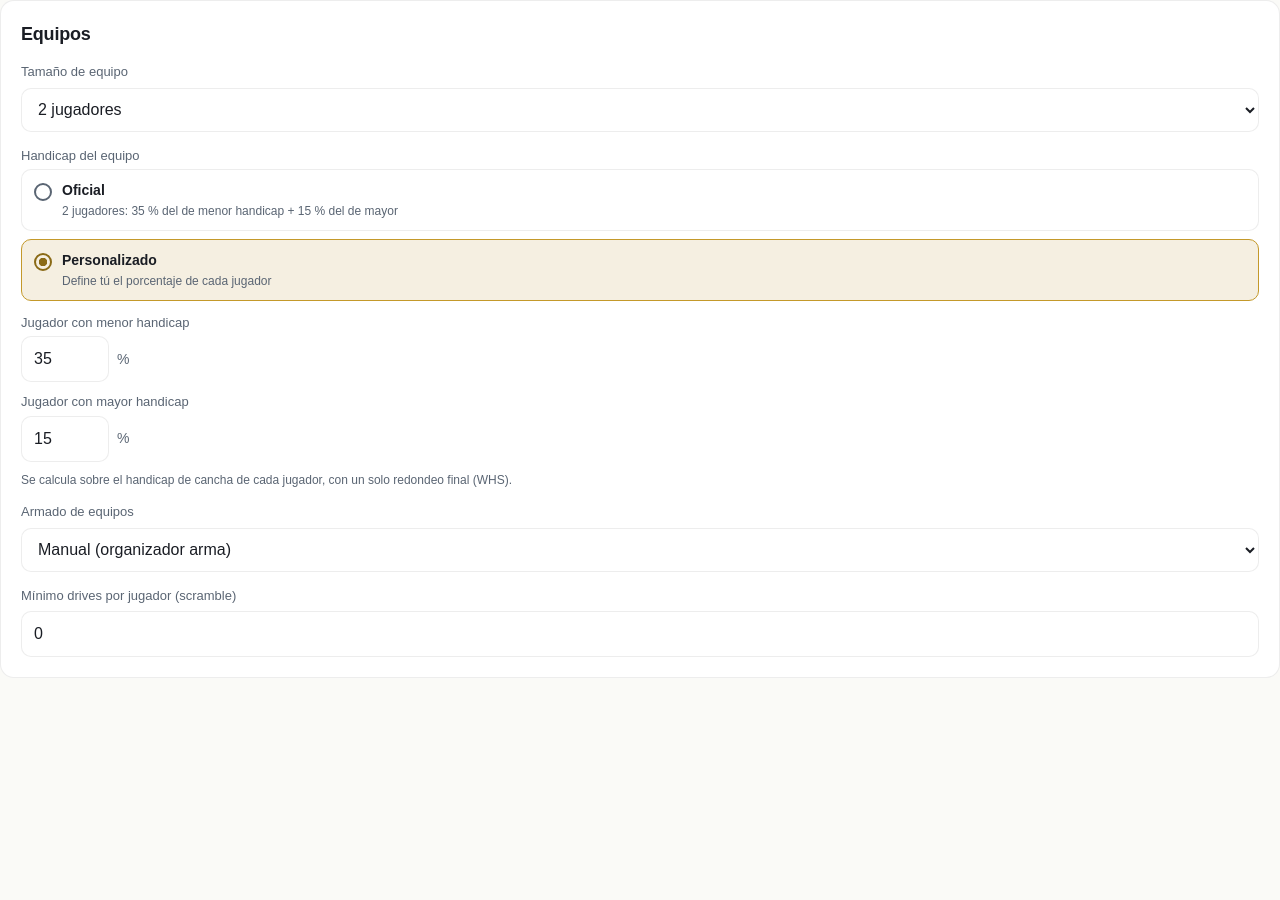
EquiposSection — scramble › Personalizado: un % fuera de 0-100 no se guarda y se explica
Type "150" into the field labelled "Jugador con menor handicap". click: (65, 359)
box: top-left (21, 336), bottom-right (109, 382)
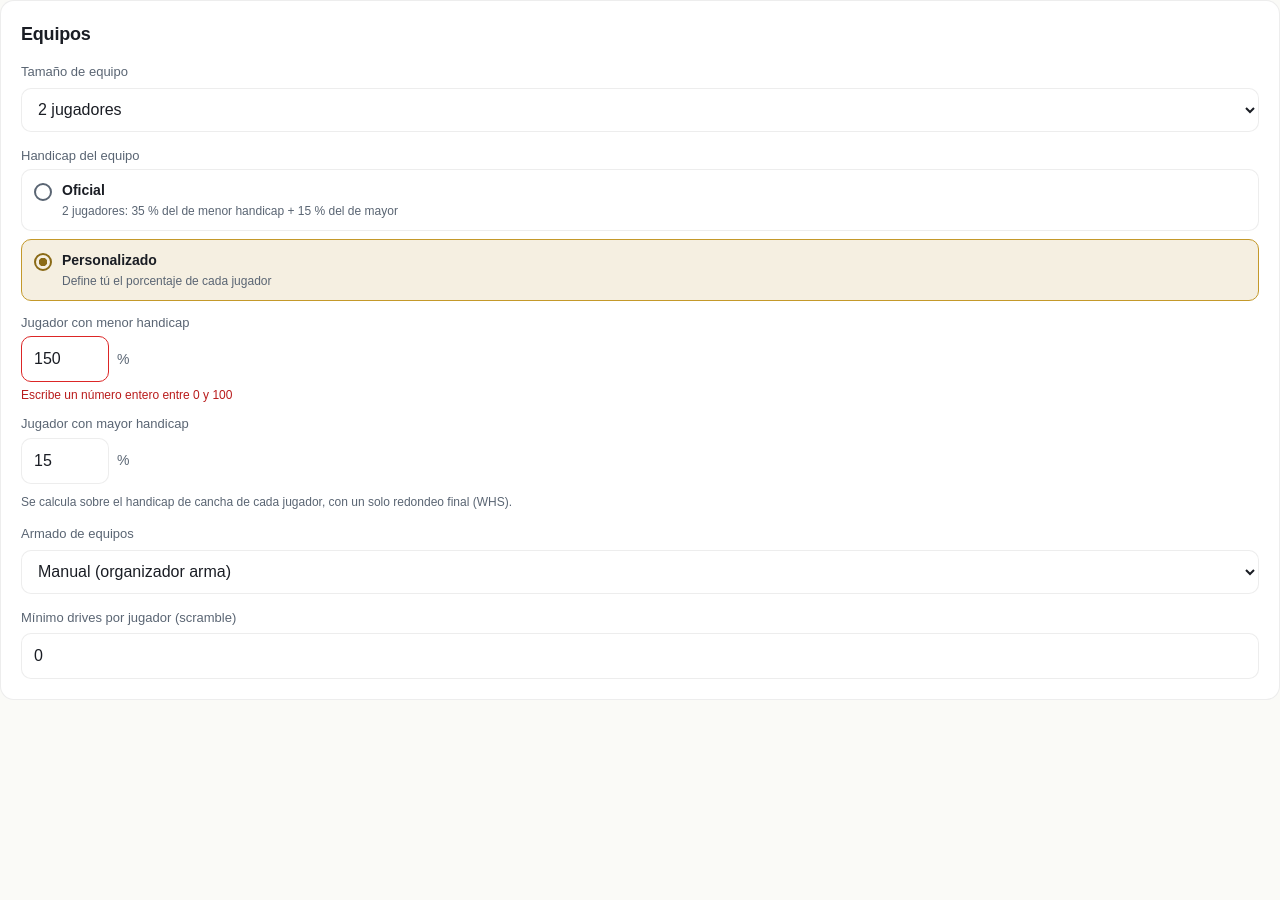
Result: the text "Escribe un número entero entre 0 y 100" is shown at top-left (21, 388), bottom-right (232, 402)
